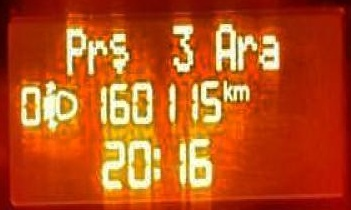0: (126, 137, 152, 190), (17, 80, 41, 127), (129, 79, 153, 125)
1: (175, 135, 186, 185), (166, 79, 177, 125), (96, 80, 107, 125), (188, 77, 198, 123)
2: (97, 135, 126, 190)
3: (167, 19, 196, 74)
5: (198, 75, 222, 125)
6: (186, 135, 212, 189), (107, 79, 129, 125)
X: (61, 22, 86, 77), (212, 20, 236, 72), (108, 27, 131, 75), (258, 30, 282, 72), (85, 35, 108, 74), (236, 30, 257, 72), (151, 143, 161, 182), (232, 80, 249, 102), (221, 77, 232, 100)
